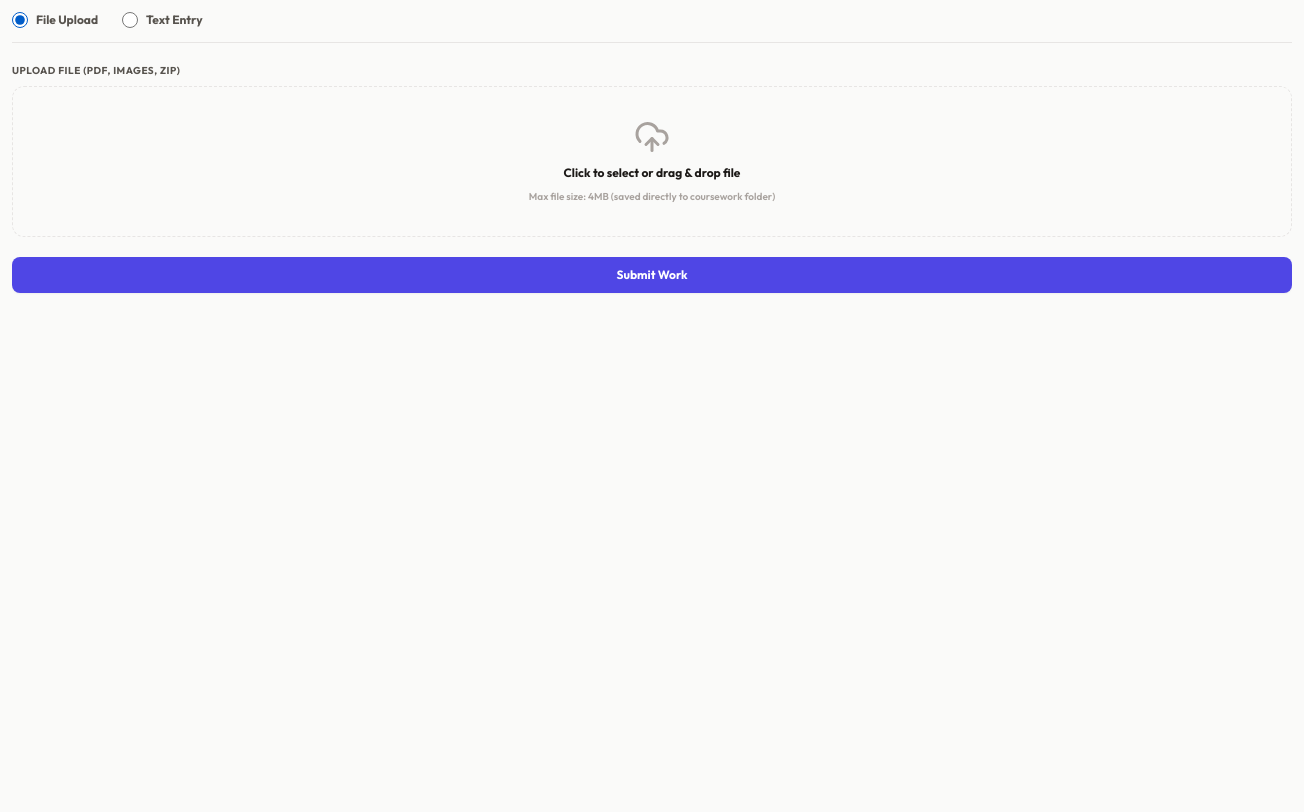
SubmissionForm › shows an error toast when submission fails
Click the radio button labelled "Text Entry": (130, 20) [122,12,138,28]
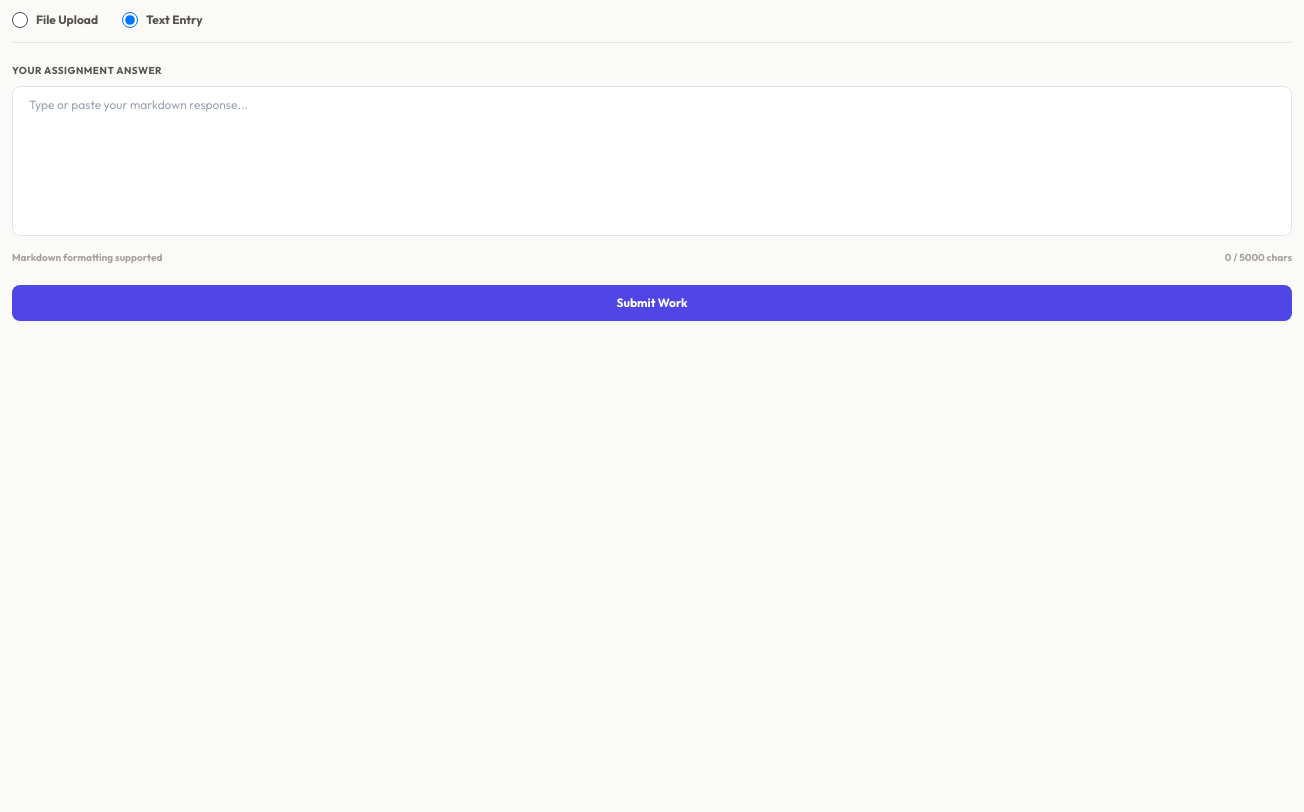
In the text box with placeholder "Type or paste your markdown response...": (652, 161) [12,86,1292,236], type "hello"
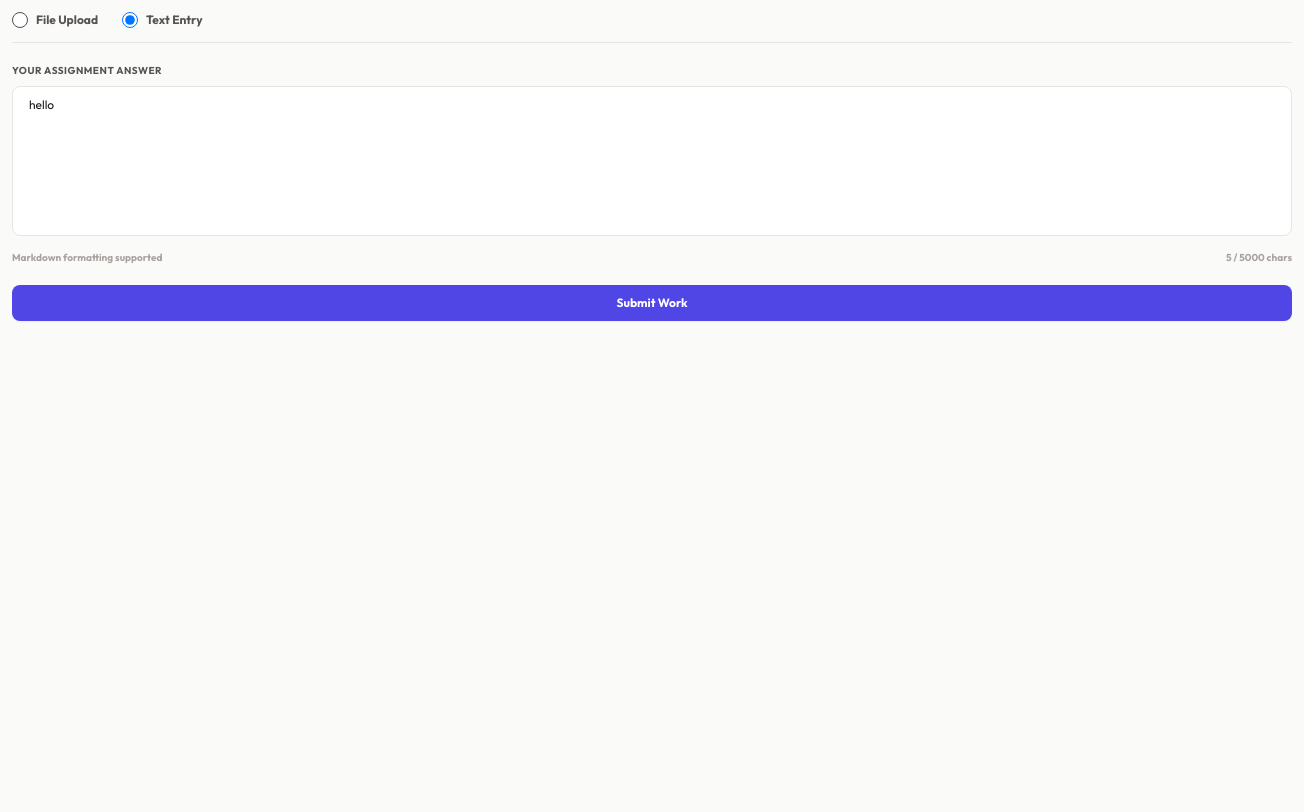
Click the button "Submit Work": (652, 303) [12,285,1292,321]
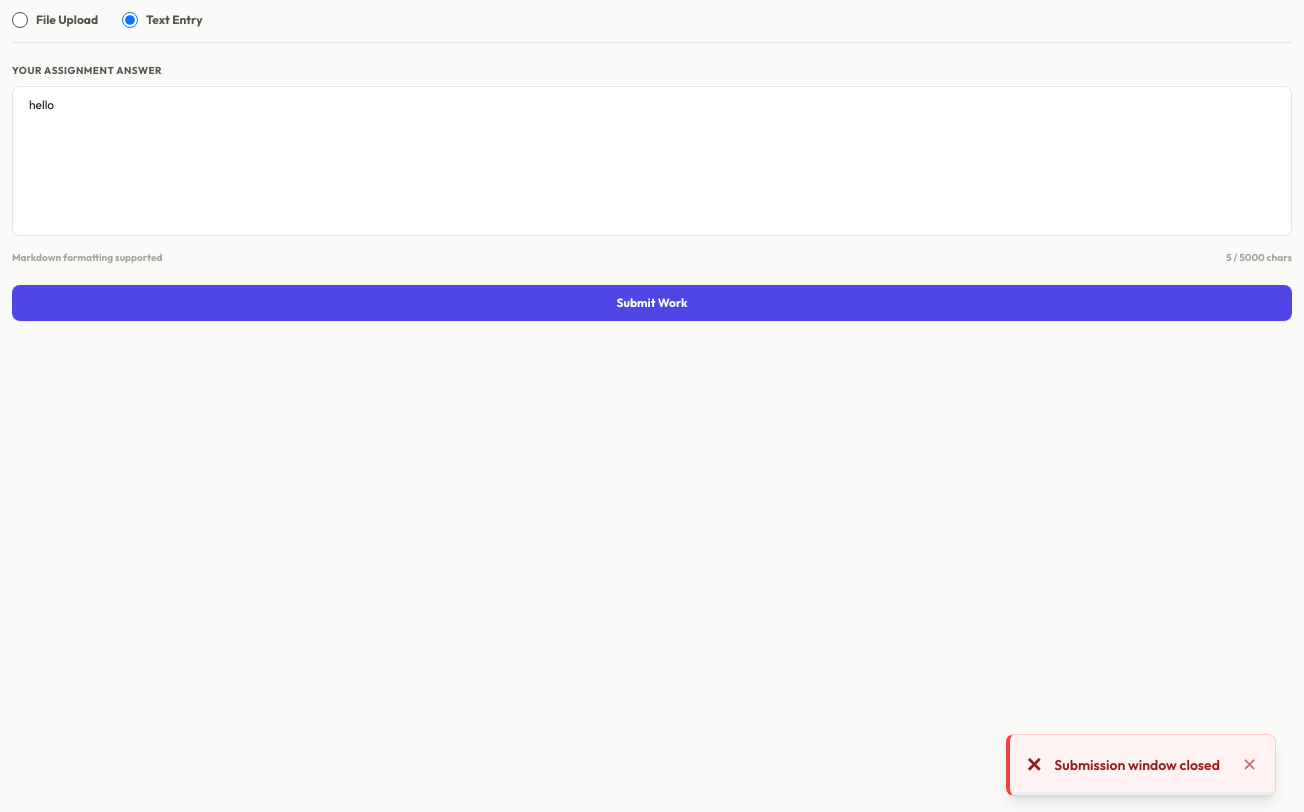
Expected: the text "Submission window closed" is shown, [1054,755,1228,775]
